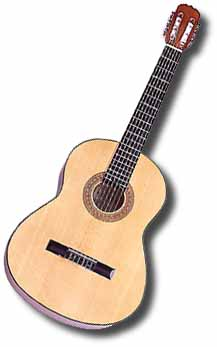guitar: (3, 3, 201, 333)
